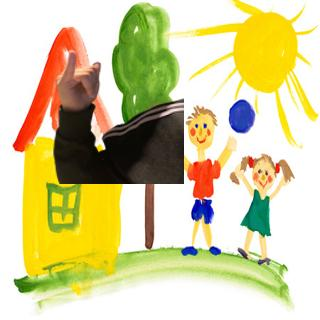HAVE: (51, 49, 103, 109)
